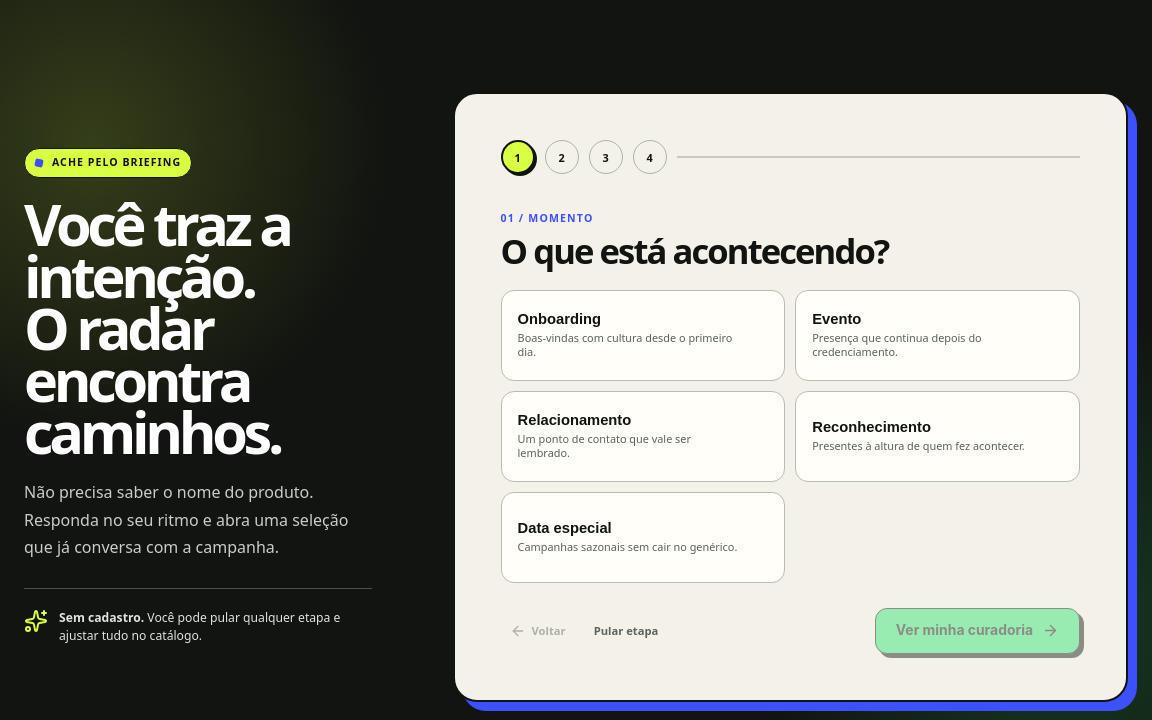
Test case: resumo editável do briefing › resume as quatro respostas antes de abrir a curadoria
Step 1. Click the text "Evento" → (837, 318), box [812, 310, 861, 326]
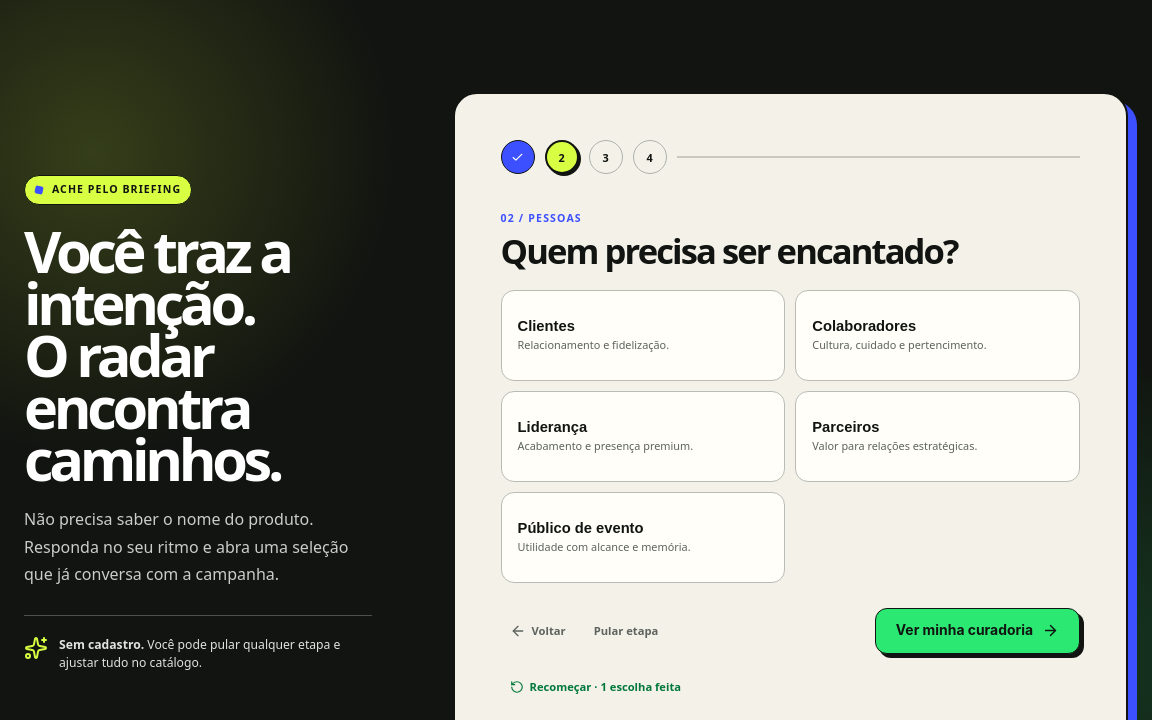
Step 2. Click the text "Colaboradores" → (864, 326), box [812, 318, 916, 334]
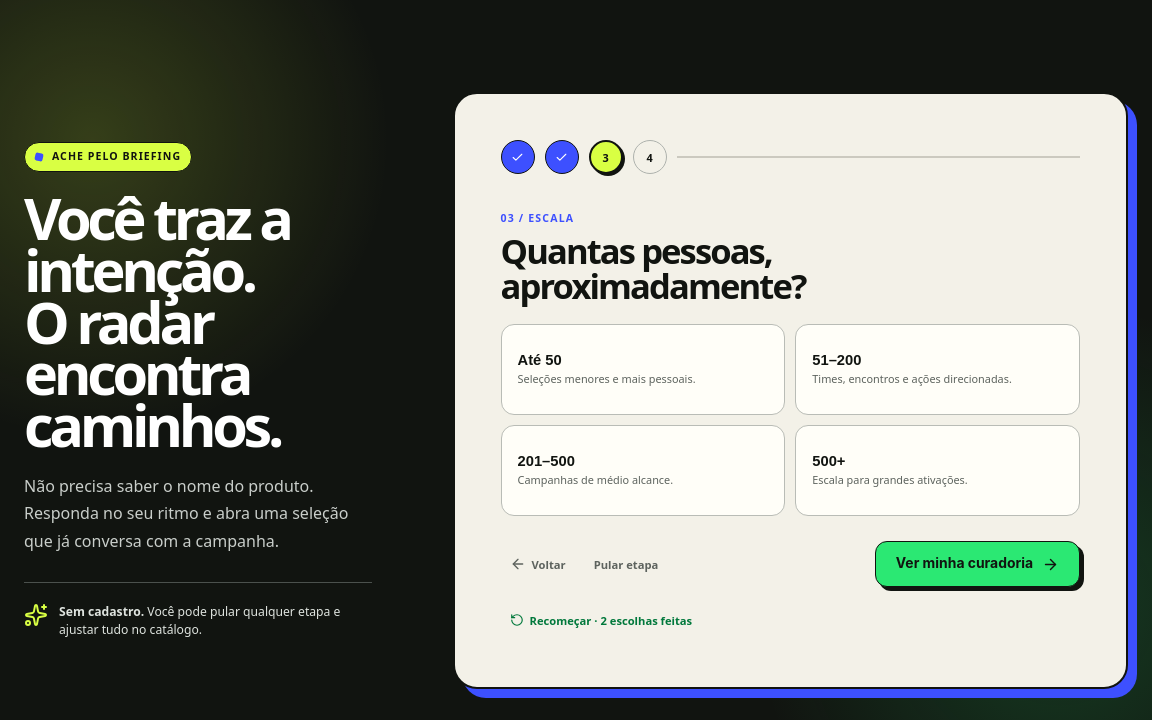
Step 3. Click the text "51–200" → (837, 360), box [812, 352, 861, 368]
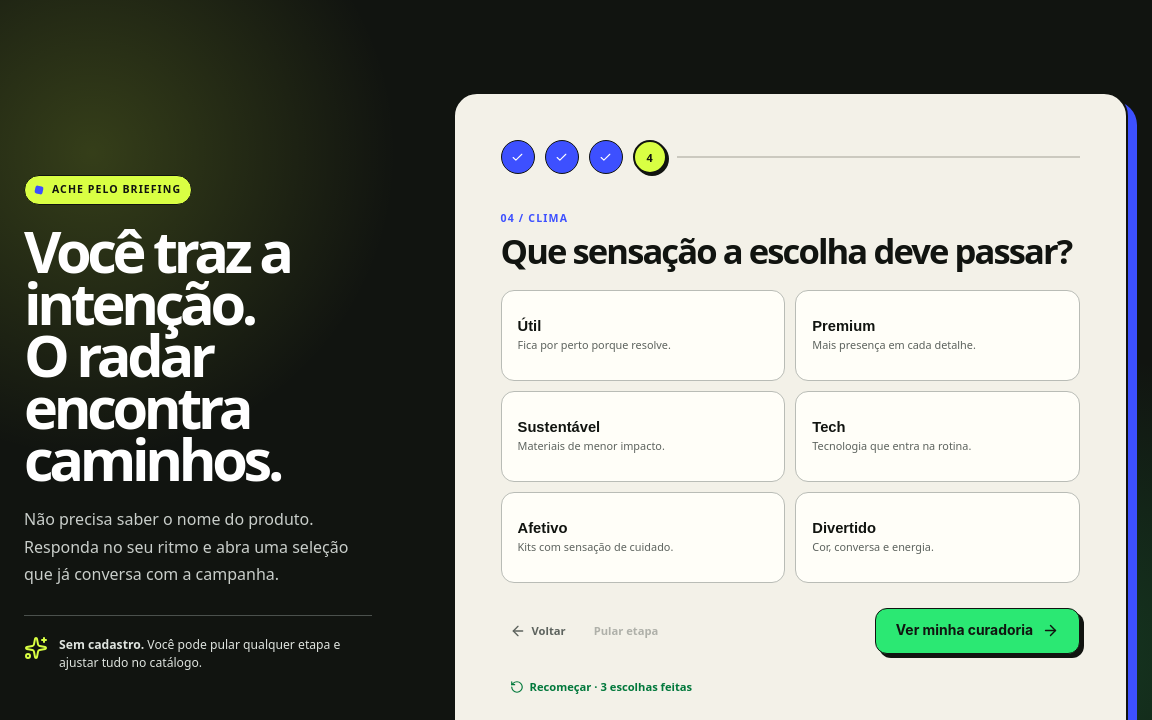
Step 4. Click the text "Útil" → (529, 326), box [518, 318, 541, 334]
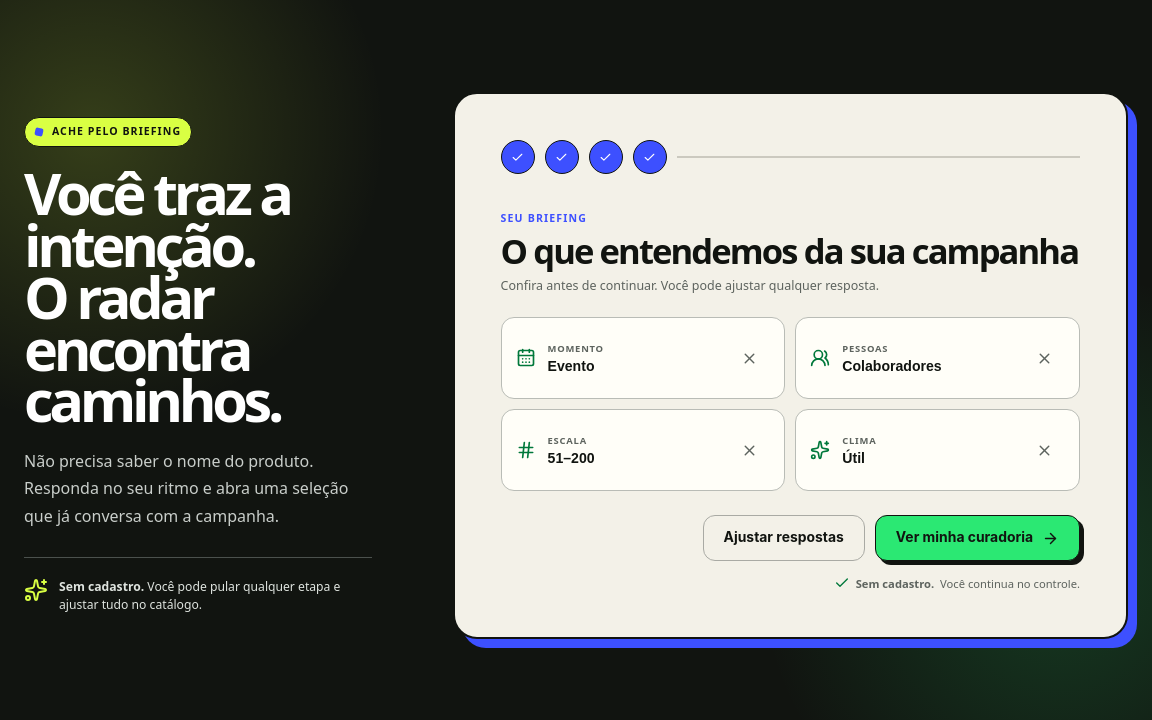
Now the heading "O que entendemos da sua campanha" is shown, box [501, 234, 1080, 269]
Now the text "Evento" is shown, box [548, 358, 594, 374]
Now the text "Colaboradores" is shown, box [842, 358, 942, 374]
